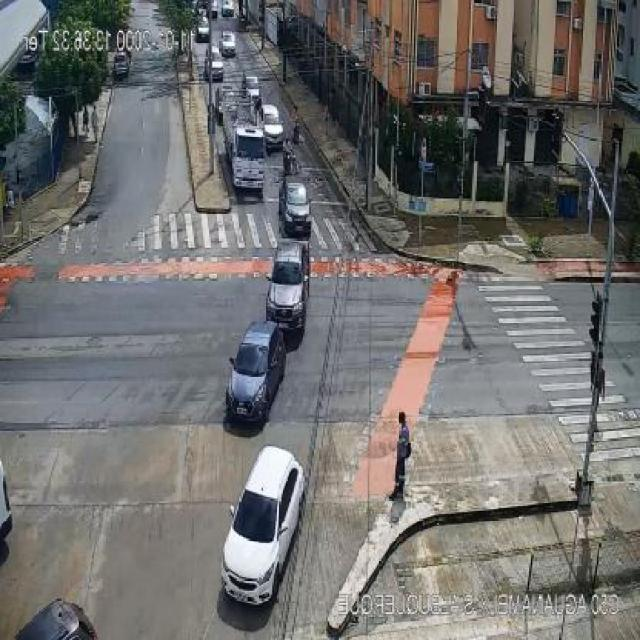Car: (224, 435, 325, 613), (216, 312, 294, 425), (260, 232, 325, 322), (17, 583, 105, 640), (276, 169, 315, 233), (259, 101, 285, 145), (242, 66, 264, 100), (204, 49, 227, 78), (214, 79, 239, 104), (217, 30, 240, 57), (193, 15, 214, 43)
Cycle: (286, 110, 314, 145), (280, 137, 306, 170)
Truck: (222, 100, 271, 202)
